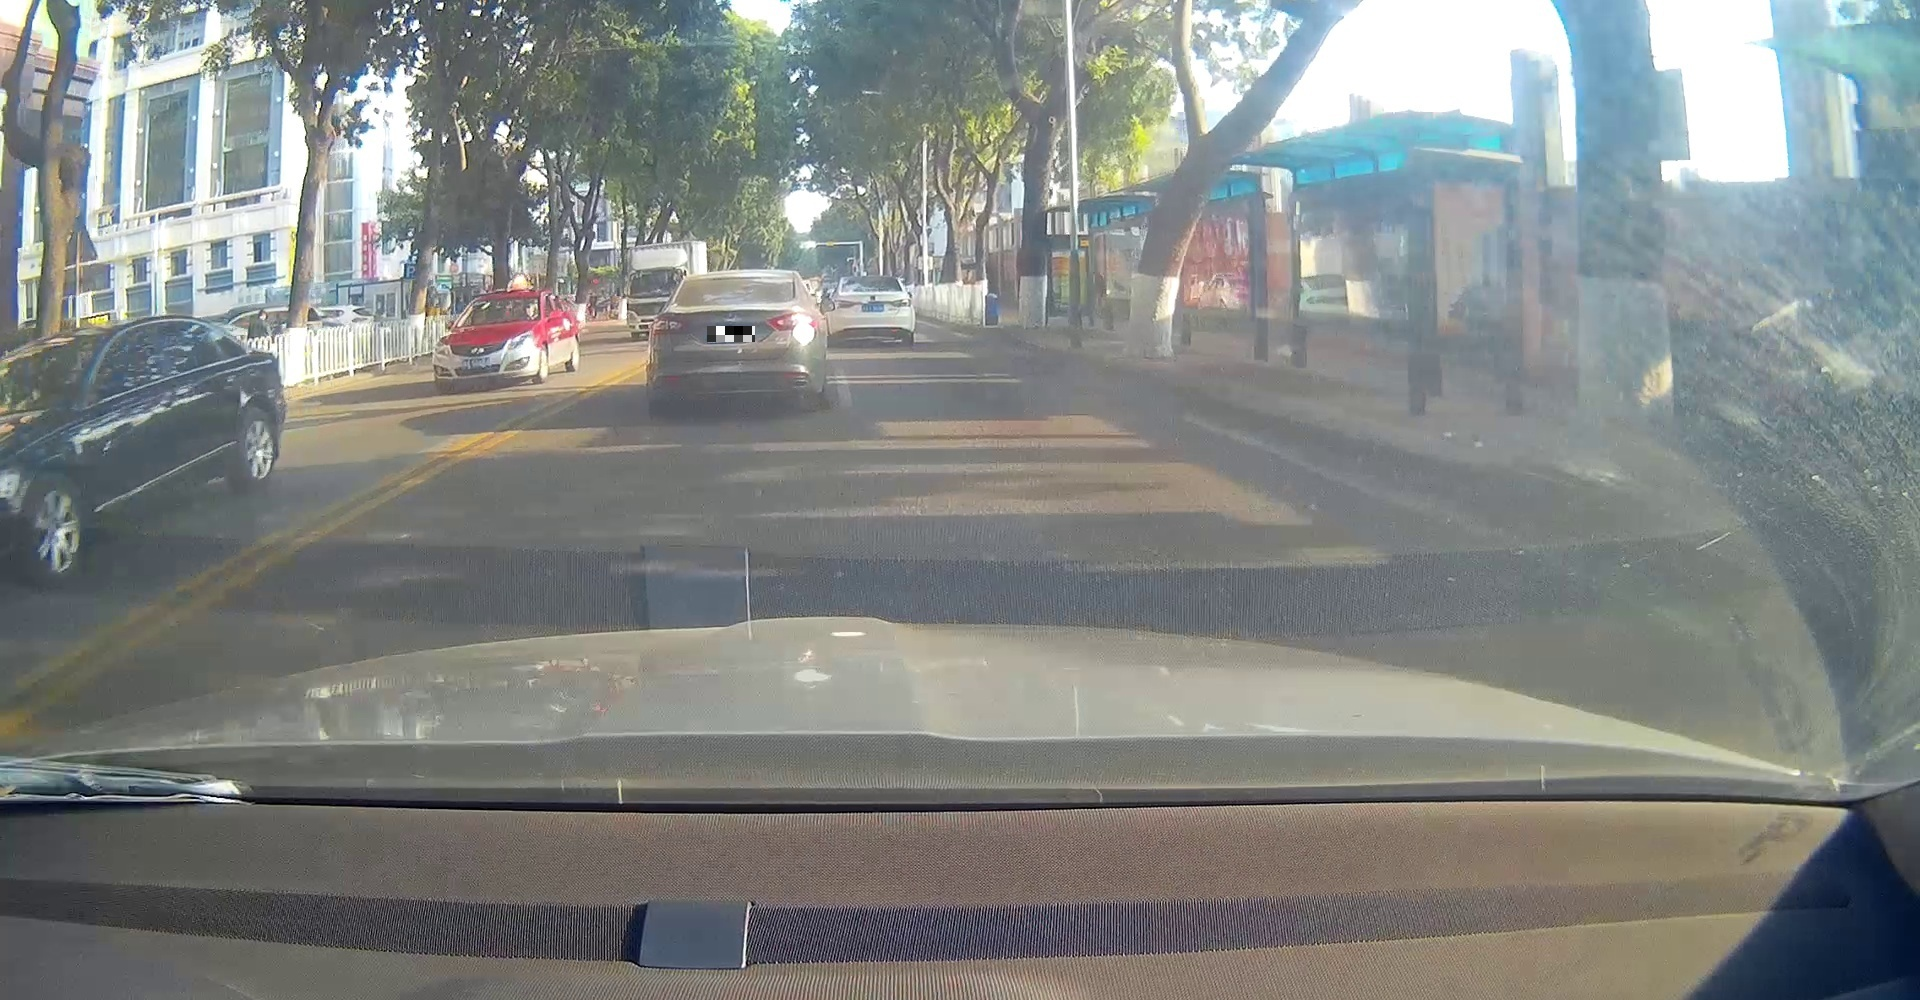L_light: (650, 316, 693, 334), (834, 299, 855, 308)
R_light: (767, 311, 817, 332), (889, 298, 910, 307)
T_light: (721, 275, 753, 284), (861, 277, 877, 280)
day-no: (649, 269, 817, 412), (830, 275, 910, 345)
plate_1: (707, 326, 756, 341)
